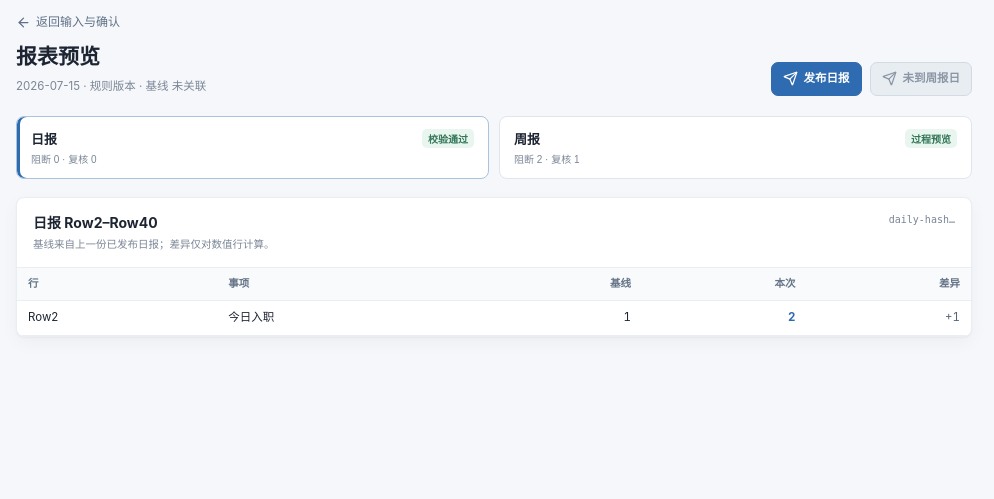
Test: RunPreviewPage › shows every failed weekly calculation instead of only the blocker count
The width and height of the screenshot is (994, 499).
Step 1. Click the button with aria-label "周报预览" → [931, 138], box [499,116,972,179]
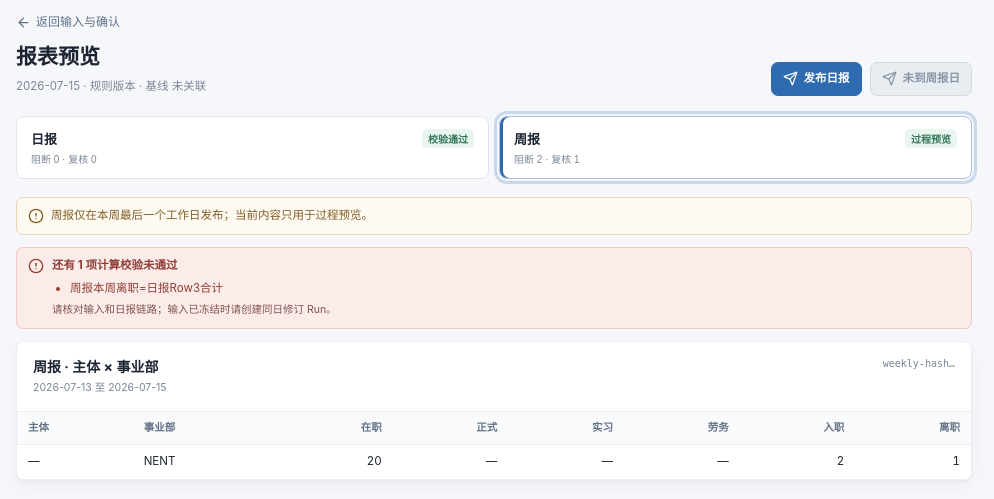
Expected: the text "还有 1 项计算校验未通过" is shown, [52,258,177,272]
Expected: the list item "周报本周离职=日报Row3合计" is shown, [70,281,223,295]
